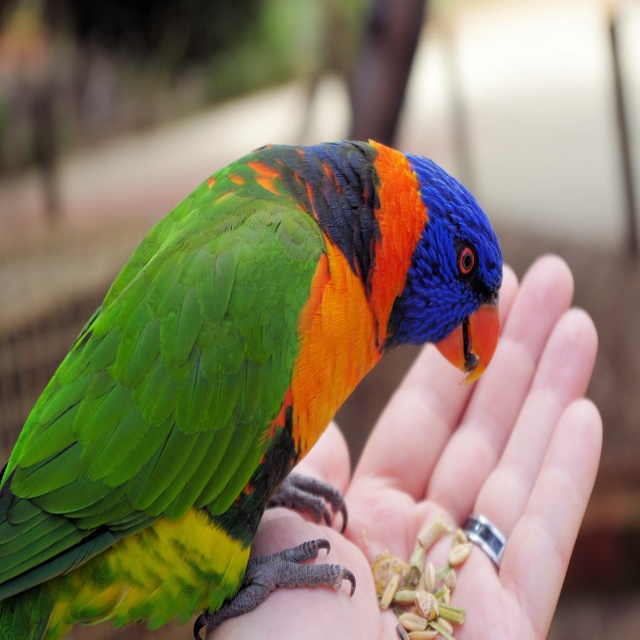Parrot: (1, 138, 502, 639)
